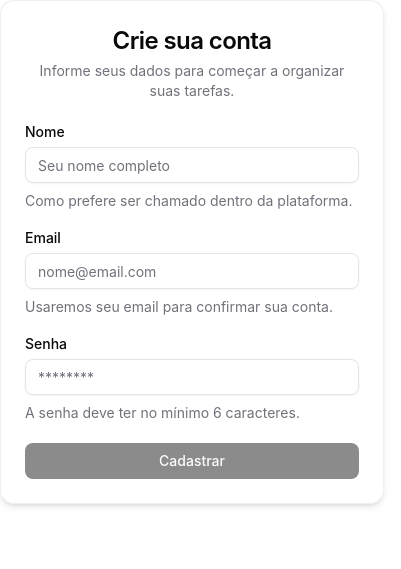
Scenario: RegisterForm › exibe mensagem de erro quando o cadastro falha
Type "Usuário Teste" into the field labelled "Nome" at (192,165), box top-left (25, 147), bottom-right (359, 183)
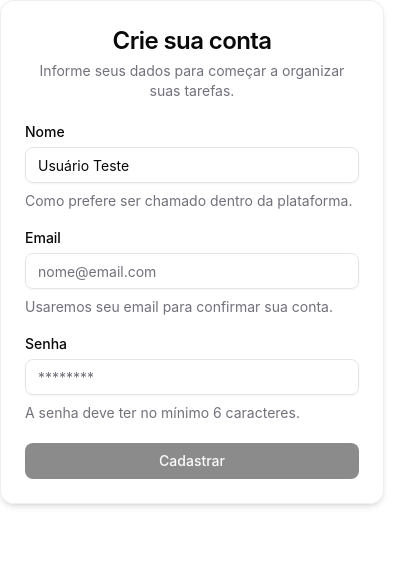
Type "usuario@teste.com" into the field labelled "Email" at (192,271), box top-left (25, 253), bottom-right (359, 289)
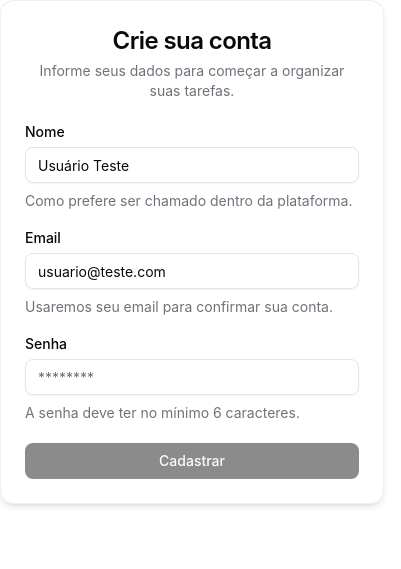
Type "segredo" into the password field labelled "Senha" at (192,377), box top-left (25, 359), bottom-right (359, 395)
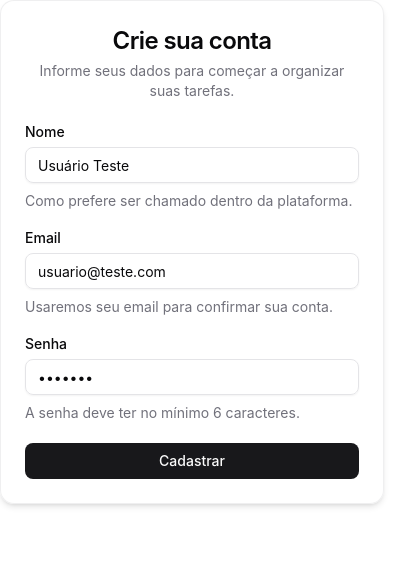
Check: the button "Cadastrar" is enabled
Click the button "Cadastrar" at (192,461), box top-left (25, 443), bottom-right (359, 479)
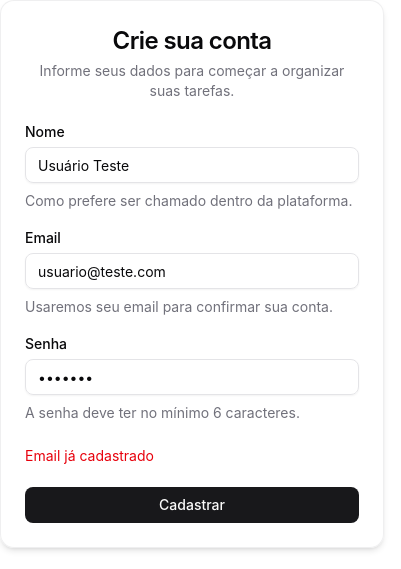
Check: the text "Email já cadastrado" is shown, box top-left (25, 447), bottom-right (154, 464)
